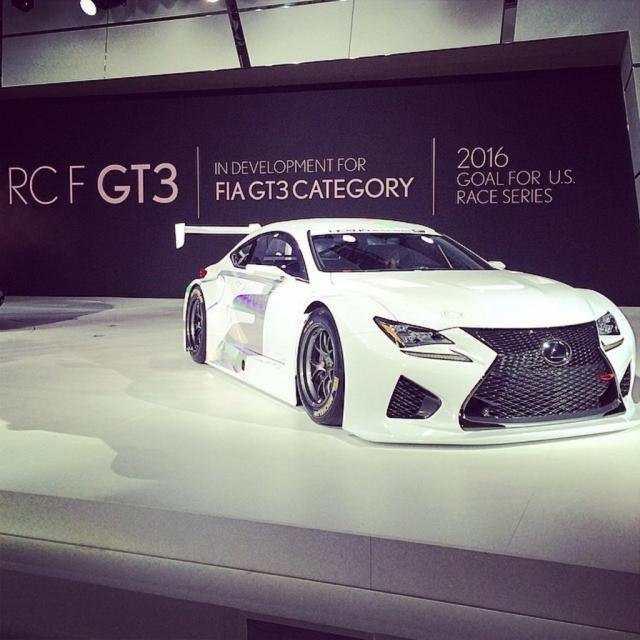car: (173, 215, 638, 446)
